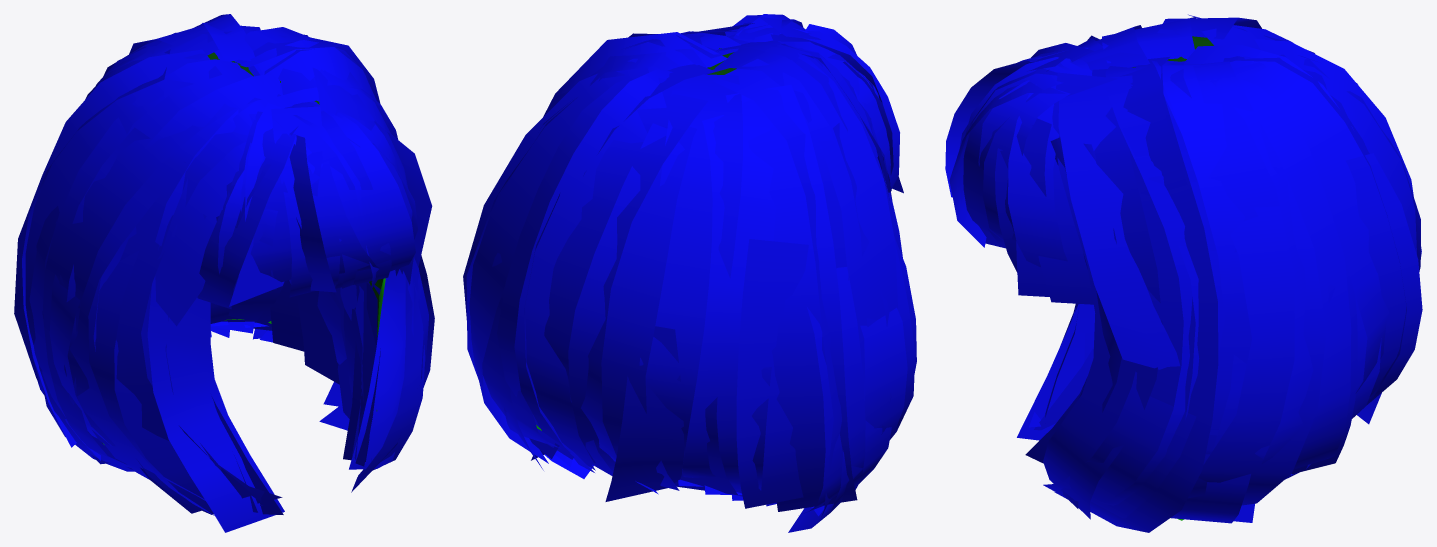
The model's file is hair_005.obj.
3 views of the same model, side by side, from view 1: azimuth 30°, elevation 25°; view 2: azimuth 150°, elevation 25°; view 3: azimuth 270°, elevation 25° (orthographic). The views are drawn at different scales.
Visible parts, largest first — view 1: hair_005; view 2: hair_005; view 3: hair_005.
Part boxes in pixels (left/top/right/bottom): hair_005: left=14, top=14, right=434, bottom=532; hair_005: left=463, top=14, right=916, bottom=532; hair_005: left=945, top=14, right=1422, bottom=532.
Bounding box in the file's own units: 25.64 × 27.4 × 26.94.
